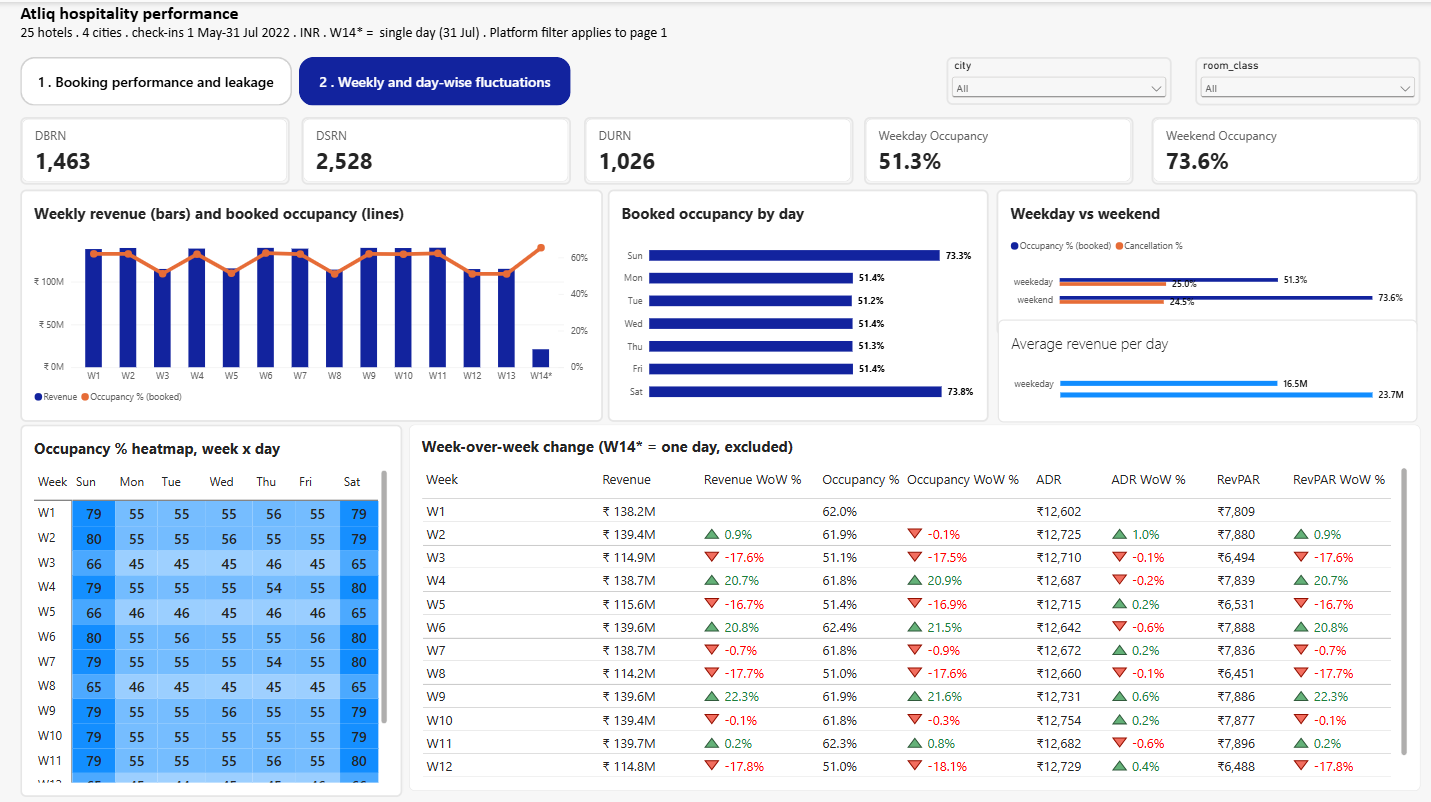

Layout of this report page (visuals, bound fields, positions):
{"tool":"powerbi","page":{"name":"Page 2","canvas":[1920,1080],"ordinal":1},"visuals":[{"type":"cardVisual","fields":{"Data":["fact_bookings.DBRN"]},"box":[28.1,153.7,360,90],"z":0},{"type":"cardVisual","fields":{"Data":["fact_bookings.DSRN"]},"box":[404.7,153.7,360,90],"z":1000},{"type":"cardVisual","fields":{"Data":["fact_bookings.DURN"]},"box":[781.3,153.7,360,90],"z":2000},{"type":"cardVisual","fields":{"Data":["fact_bookings.Weekday Occupancy"]},"box":[1155.7,153.7,360,90],"z":3000},{"type":"cardVisual","fields":{"Data":["fact_bookings.Weekend Occupancy"]},"box":[1538.7,153.7,360,90],"z":4000},{"type":"lineStackedColumnComboChart","title":"Weekly revenue (bars) and booked occupancy (lines)","fields":{"Category":["dim_date.Week"],"Y":["fact_bookings.Revenue"],"Y2":["fact_bookings.Occupancy % (booked)"]},"box":[29,249.7,778.2,310],"z":5000},{"type":"barChart","title":"Booked occupancy by day","fields":{"Category":["dim_date.Day Name"],"Y":["fact_bookings.Occupancy % (booked)"]},"box":[812.5,249.7,508.5,310],"z":6000},{"type":"clusteredBarChart","title":"Weekday vs weekend","fields":{"Category":["dim_date.day_type"],"Y":["fact_bookings.Occupancy % (booked)","fact_bookings.Cancellation %"]},"box":[1332.5,250.5,562.7,195.4],"z":7000},{"type":"barChart","title":"Average revenue per day","fields":{"Category":["dim_date.day_type"],"Y":["fact_bookings.Average Revenue Per Day"]},"box":[1334.1,424.1,561,137.5],"z":8000},{"type":"pivotTable","title":"Occupancy % heatmap, week x day","fields":{"Columns":["dim_date.Day Name"],"Rows":["dim_date.Week"],"Values":["fact_bookings.Occupancy Heat"]},"box":[29,564.6,510.3,497.7],"z":9000},{"type":"tableEx","title":"Week-over-week change (W14* = one day, excluded) ","fields":{"Values":["dim_date.Week","fact_bookings.Revenue","fact_bookings.Revenue WoW %","fact_bookings.Occupancy %","fact_bookings.Occupancy WoW %","fact_bookings.ADR","fact_bookings.ADR WoW %","fact_bookings.RevPAR","fact_bookings.RevPAR WoW %"]},"box":[547.7,564.4,1350.8,489.2],"z":10000},{"type":"textbox","box":[28.1,0,1892,74],"z":11000},{"type":"actionButton","box":[28.1,73.6,363,65],"z":12000},{"type":"actionButton","box":[400.4,73.6,363,65],"z":13000},{"type":"slicer","fields":{"Values":["dim_hotels.city"]},"box":[1266,73.6,301,64],"z":14000},{"type":"slicer","fields":{"Values":["dim_rooms.room_class"]},"box":[1597.1,73.6,301,65],"z":15000}]}

Visuals, with their boxes in screenshot pixels (x1, y1, x2, y2), scaled from the page's 1920x1080 canvas onto the 1431x802 screenshot:
cardVisual - fact_bookings.DBRN: {"left": 21, "top": 114, "right": 289, "bottom": 181}
cardVisual - fact_bookings.DSRN: {"left": 302, "top": 114, "right": 570, "bottom": 181}
cardVisual - fact_bookings.DURN: {"left": 582, "top": 114, "right": 851, "bottom": 181}
cardVisual - fact_bookings.Weekday Occupancy: {"left": 861, "top": 114, "right": 1130, "bottom": 181}
cardVisual - fact_bookings.Weekend Occupancy: {"left": 1147, "top": 114, "right": 1415, "bottom": 181}
"Weekly revenue (bars) and booked occupancy (lines)" lineStackedColumnComboChart: {"left": 22, "top": 185, "right": 602, "bottom": 416}
"Booked occupancy by day" barChart: {"left": 606, "top": 185, "right": 985, "bottom": 416}
"Weekday vs weekend" clusteredBarChart: {"left": 993, "top": 186, "right": 1413, "bottom": 331}
"Average revenue per day" barChart: {"left": 994, "top": 315, "right": 1412, "bottom": 417}
"Occupancy % heatmap, week x day" pivotTable: {"left": 22, "top": 419, "right": 402, "bottom": 789}
"Week-over-week change (W14* = one day, excluded) " tableEx: {"left": 408, "top": 419, "right": 1415, "bottom": 782}
textbox: {"left": 21, "top": 0, "right": 1430, "bottom": 55}
actionButton: {"left": 21, "top": 55, "right": 291, "bottom": 103}
actionButton: {"left": 298, "top": 55, "right": 569, "bottom": 103}
slicer - dim_hotels.city: {"left": 944, "top": 55, "right": 1168, "bottom": 102}
slicer - dim_rooms.room_class: {"left": 1190, "top": 55, "right": 1415, "bottom": 103}
